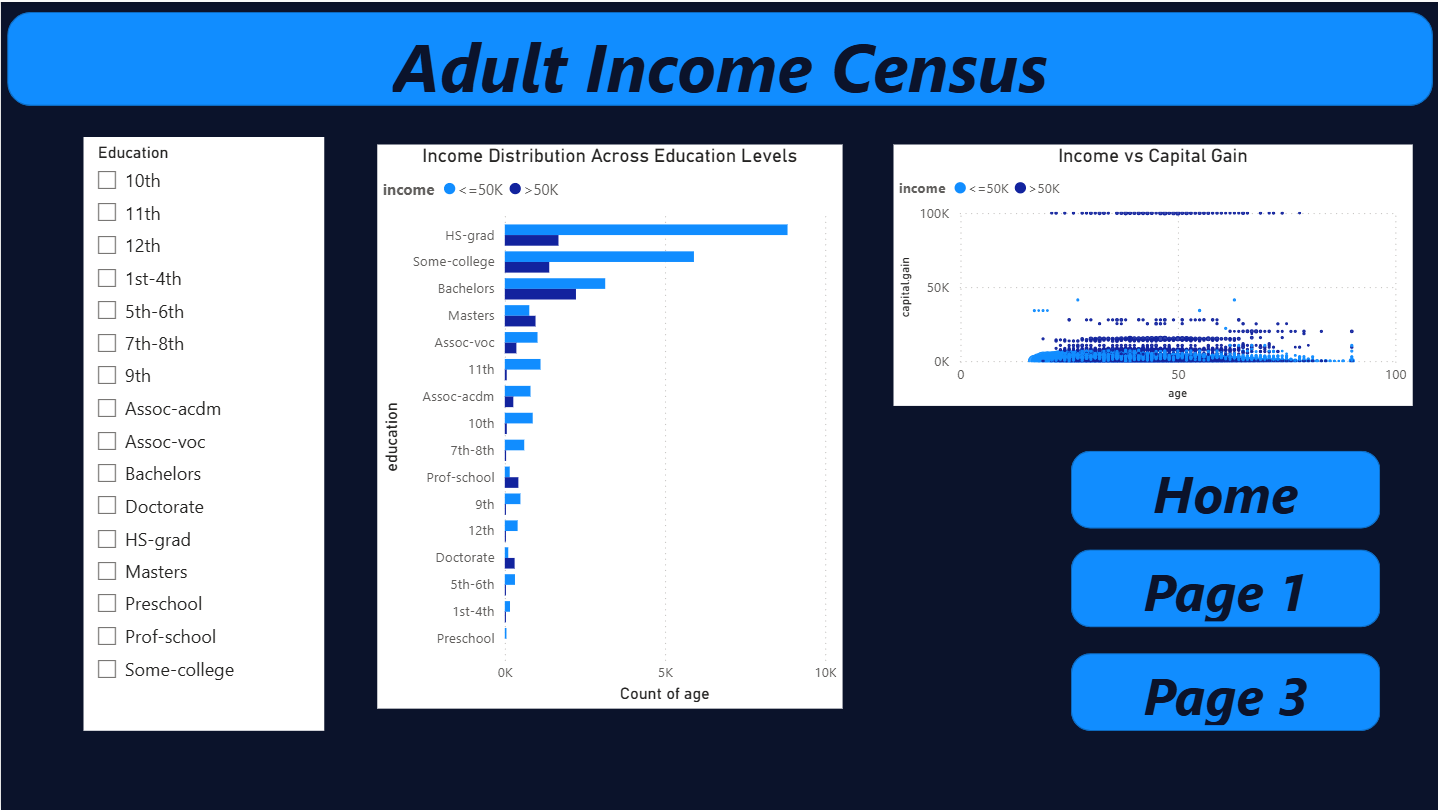

The page's visual inventory and layout, read from the dashboard file:
{"tool":"powerbi","page":{"name":"Page 2","canvas":[1280,720],"ordinal":2},"visuals":[{"type":"shape","box":[5.8,8.7,1269.6,83.7],"z":0},{"type":"clusteredBarChart","title":"Income Distribution Across Education Levels","fields":{"Category":["Dataset for Excel.education"],"Series":["Dataset for Excel.income"],"Y":["CountNonNull(Dataset for Excel.age)"]},"box":[334.6,126.7,414.1,502.1],"z":1000},{"type":"slicer","fields":{"Values":["Dataset for Excel.education"]},"box":[73.6,120.6,214.7,528.4],"z":2000},{"type":"shape","box":[953.3,399.6,275.6,69.3],"z":3000},{"type":"shape","box":[953.3,580,275.6,69.3],"z":4000},{"type":"shape","box":[953.3,487.7,275.6,69.3],"z":5000},{"type":"scatterChart","title":"Income vs Capital Gain","fields":{"Series":["Dataset for Excel.income"],"Size":["Sum(Dataset for Excel.hours.per.week)"],"X":["Dataset for Excel.age"],"Y":["Dataset for Excel.capital.gain"]},"box":[795,126.7,462.1,232.8],"z":6000}]}

Visuals, with their boxes in screenshot pixels (x1, y1, x2, y2), scaled from the page's 1280x720 canvas onto the 1438x810 screenshot:
shape: bbox=(7, 10, 1433, 104)
"Income Distribution Across Education Levels" clusteredBarChart: bbox=(376, 143, 841, 707)
slicer - Dataset for Excel.education: bbox=(83, 136, 324, 730)
shape: bbox=(1071, 450, 1381, 528)
shape: bbox=(1071, 652, 1381, 730)
shape: bbox=(1071, 549, 1381, 627)
"Income vs Capital Gain" scatterChart: bbox=(893, 143, 1412, 404)
